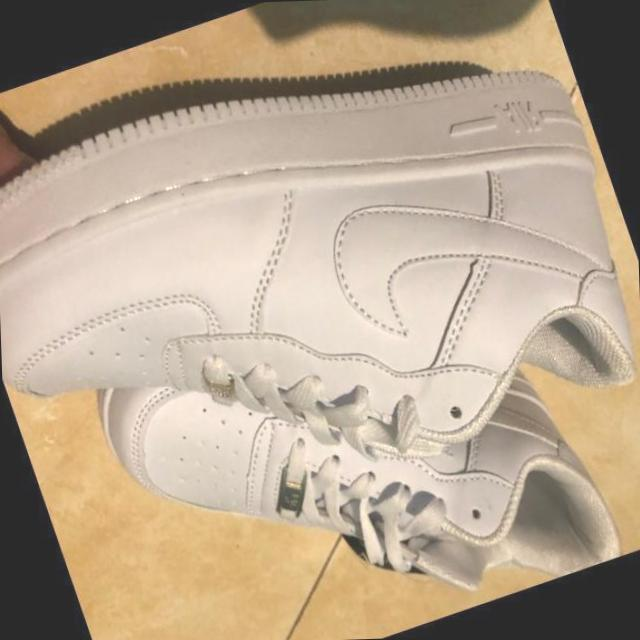nike_fake_airforce: (0, 0, 640, 587), (77, 219, 634, 640)
